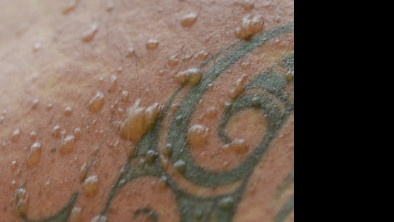SJS-TEN: (2, 0, 298, 222)
